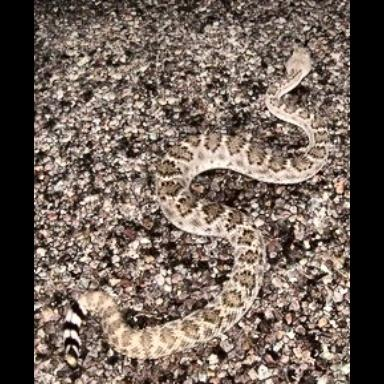snake: (64, 47, 332, 370)
